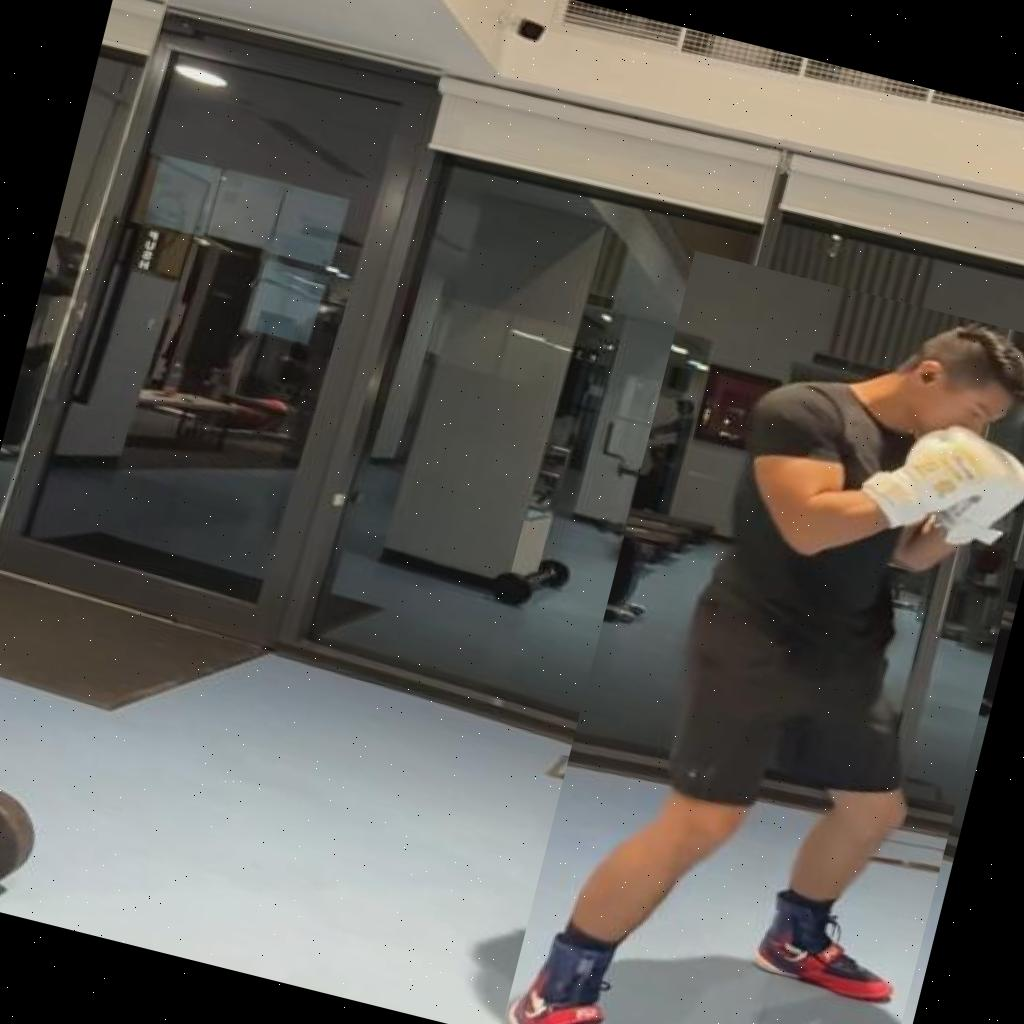no punch: (499, 250, 1024, 1024)
